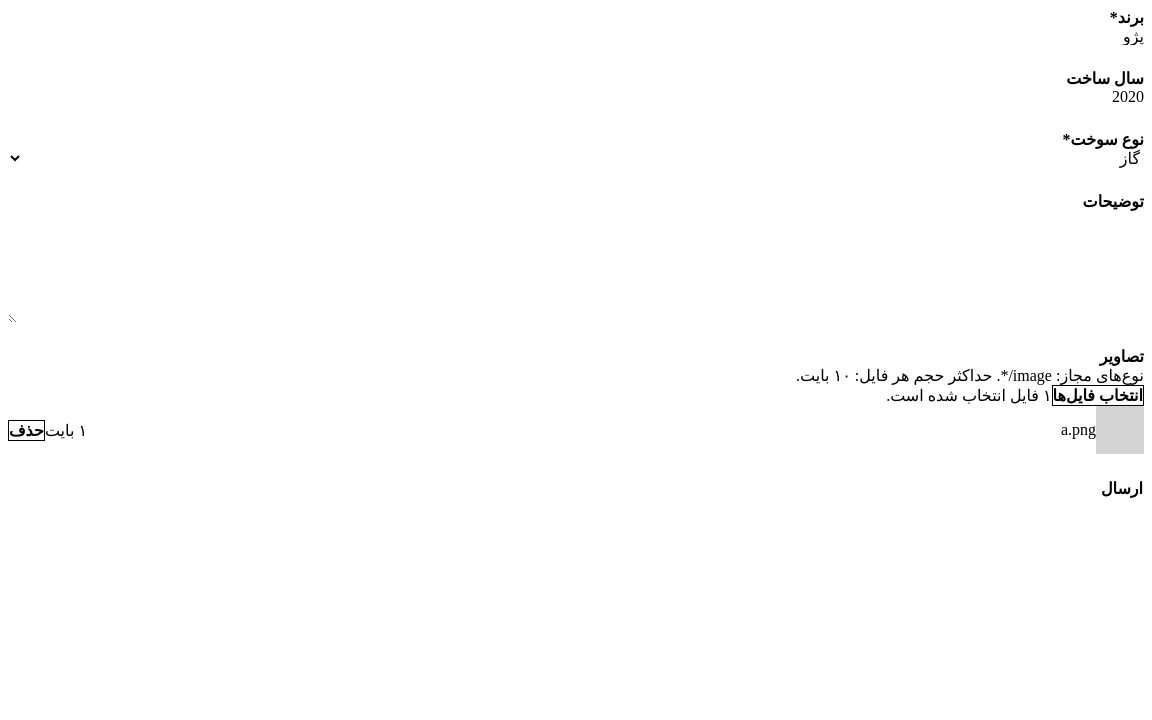
Scenario: a valid submit › ignores a second submit while the first is in flight, and says it is busy
This screenshot has width=1152, height=720.
Earlier steps of the test are not shown.
Later steps or results of the test are not shown.
Click the button "ارسال" at (1122, 488), box [1100,478,1144,499]
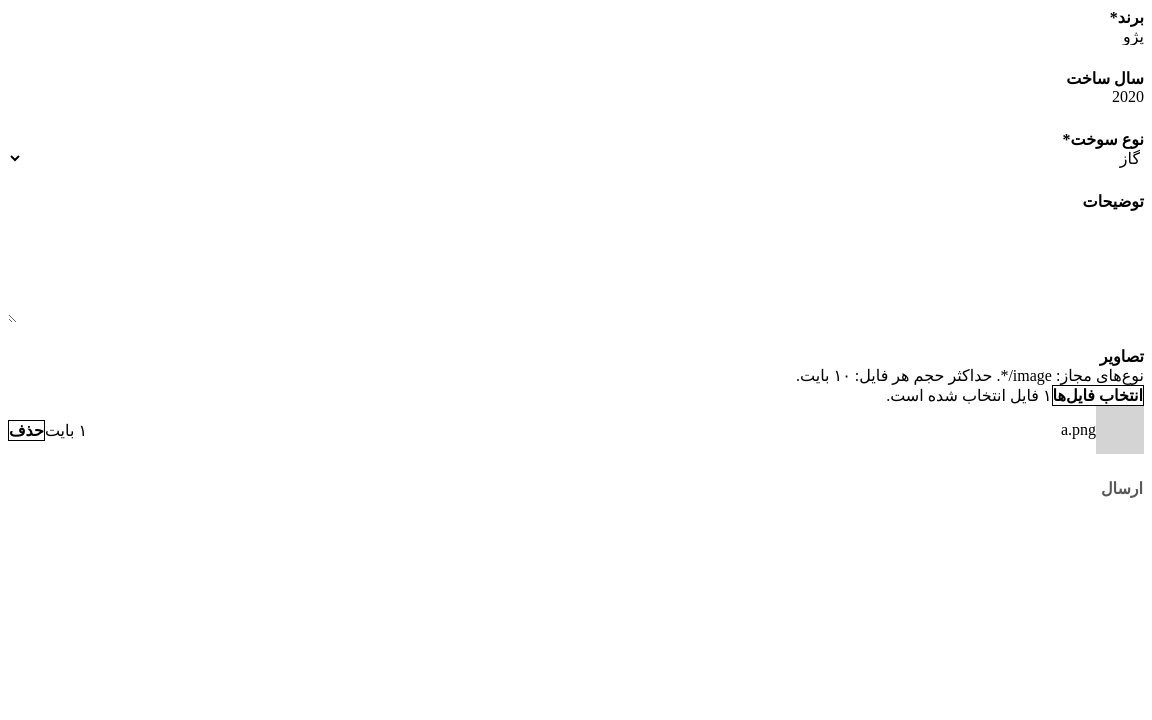
Expected: the button "ارسال" has attribute aria-busy="true"
Click the button "ارسال" at (1122, 488), box [1100,478,1144,499]
Press Enter
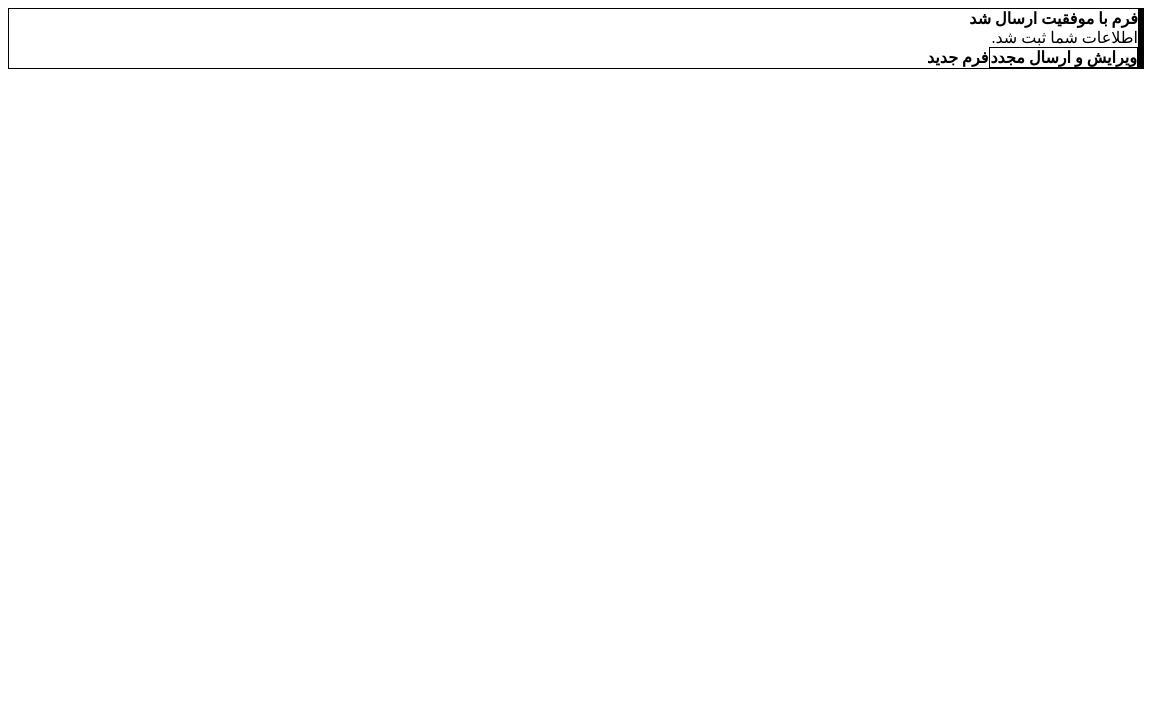
Expected: the message "فرم با موفقیت ارسال شد اطلاعات شما ثبت شد. ویرایش و ارسال مجدد فرم جدید" is shown, [8,8,1144,69]
